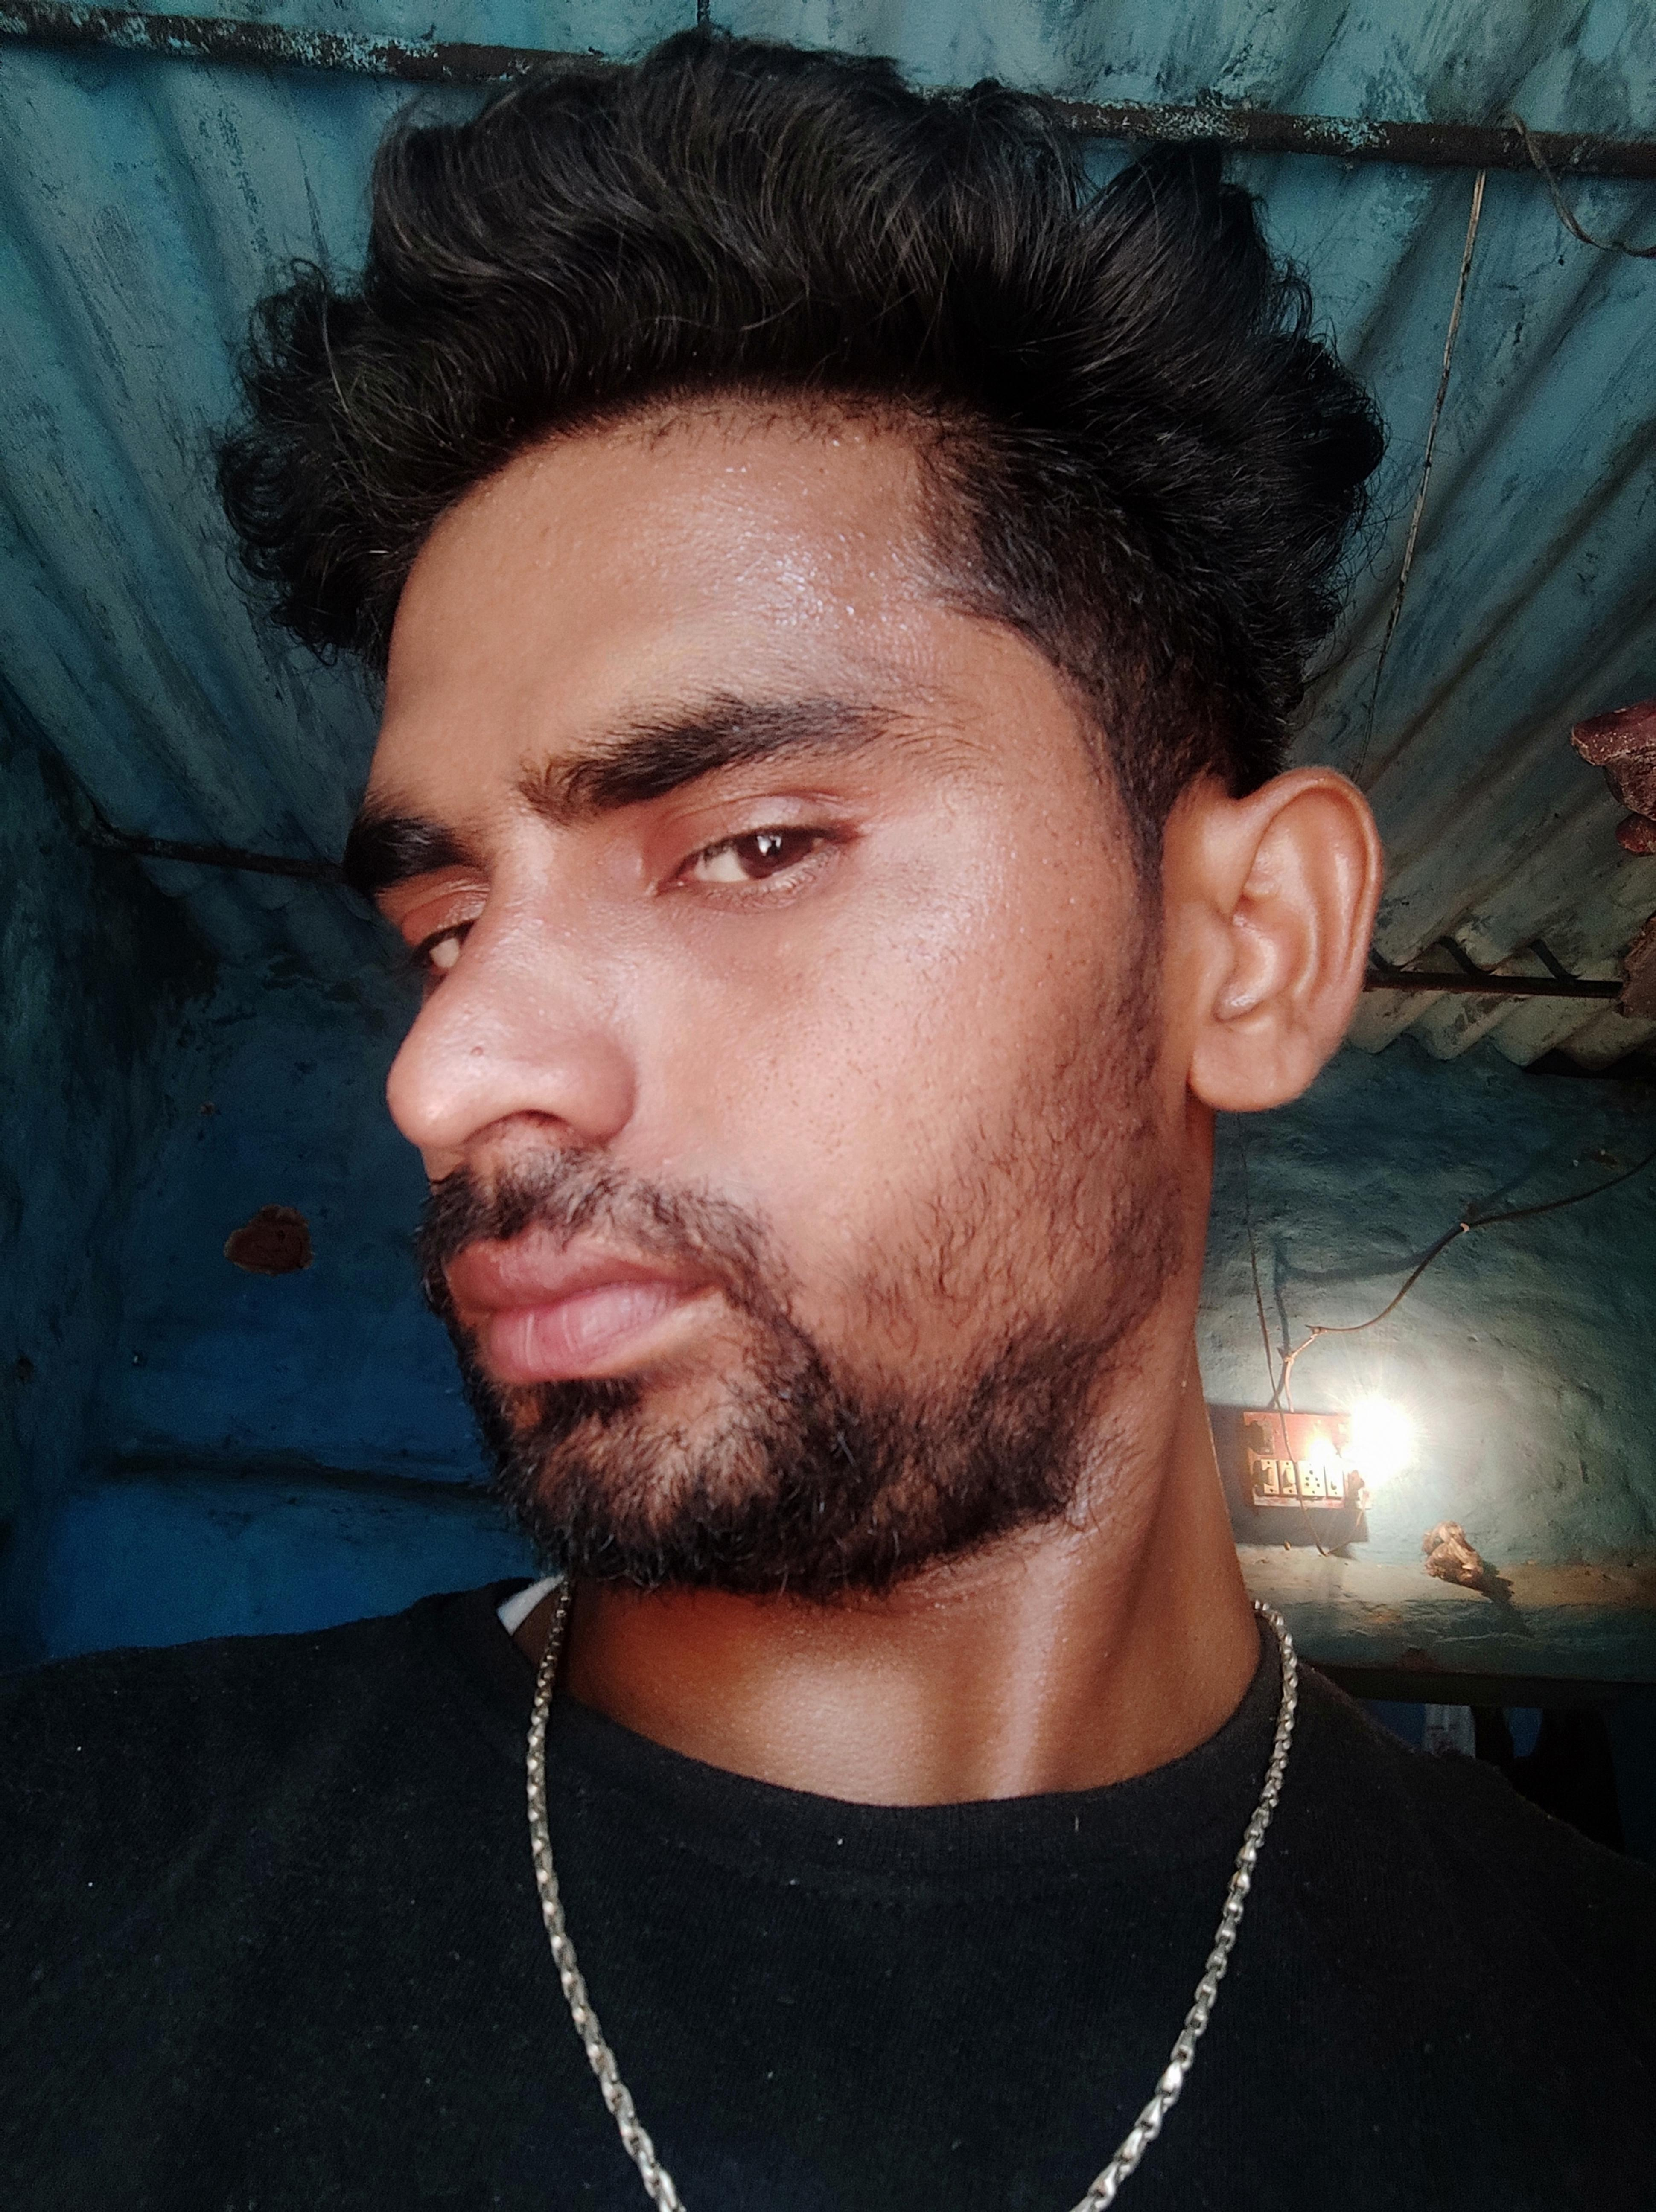Acne: (706, 464, 774, 485), (466, 1042, 499, 1073), (851, 598, 868, 626)
Englarged-Pores: (1009, 1092, 1167, 1196), (764, 1016, 847, 1162)
